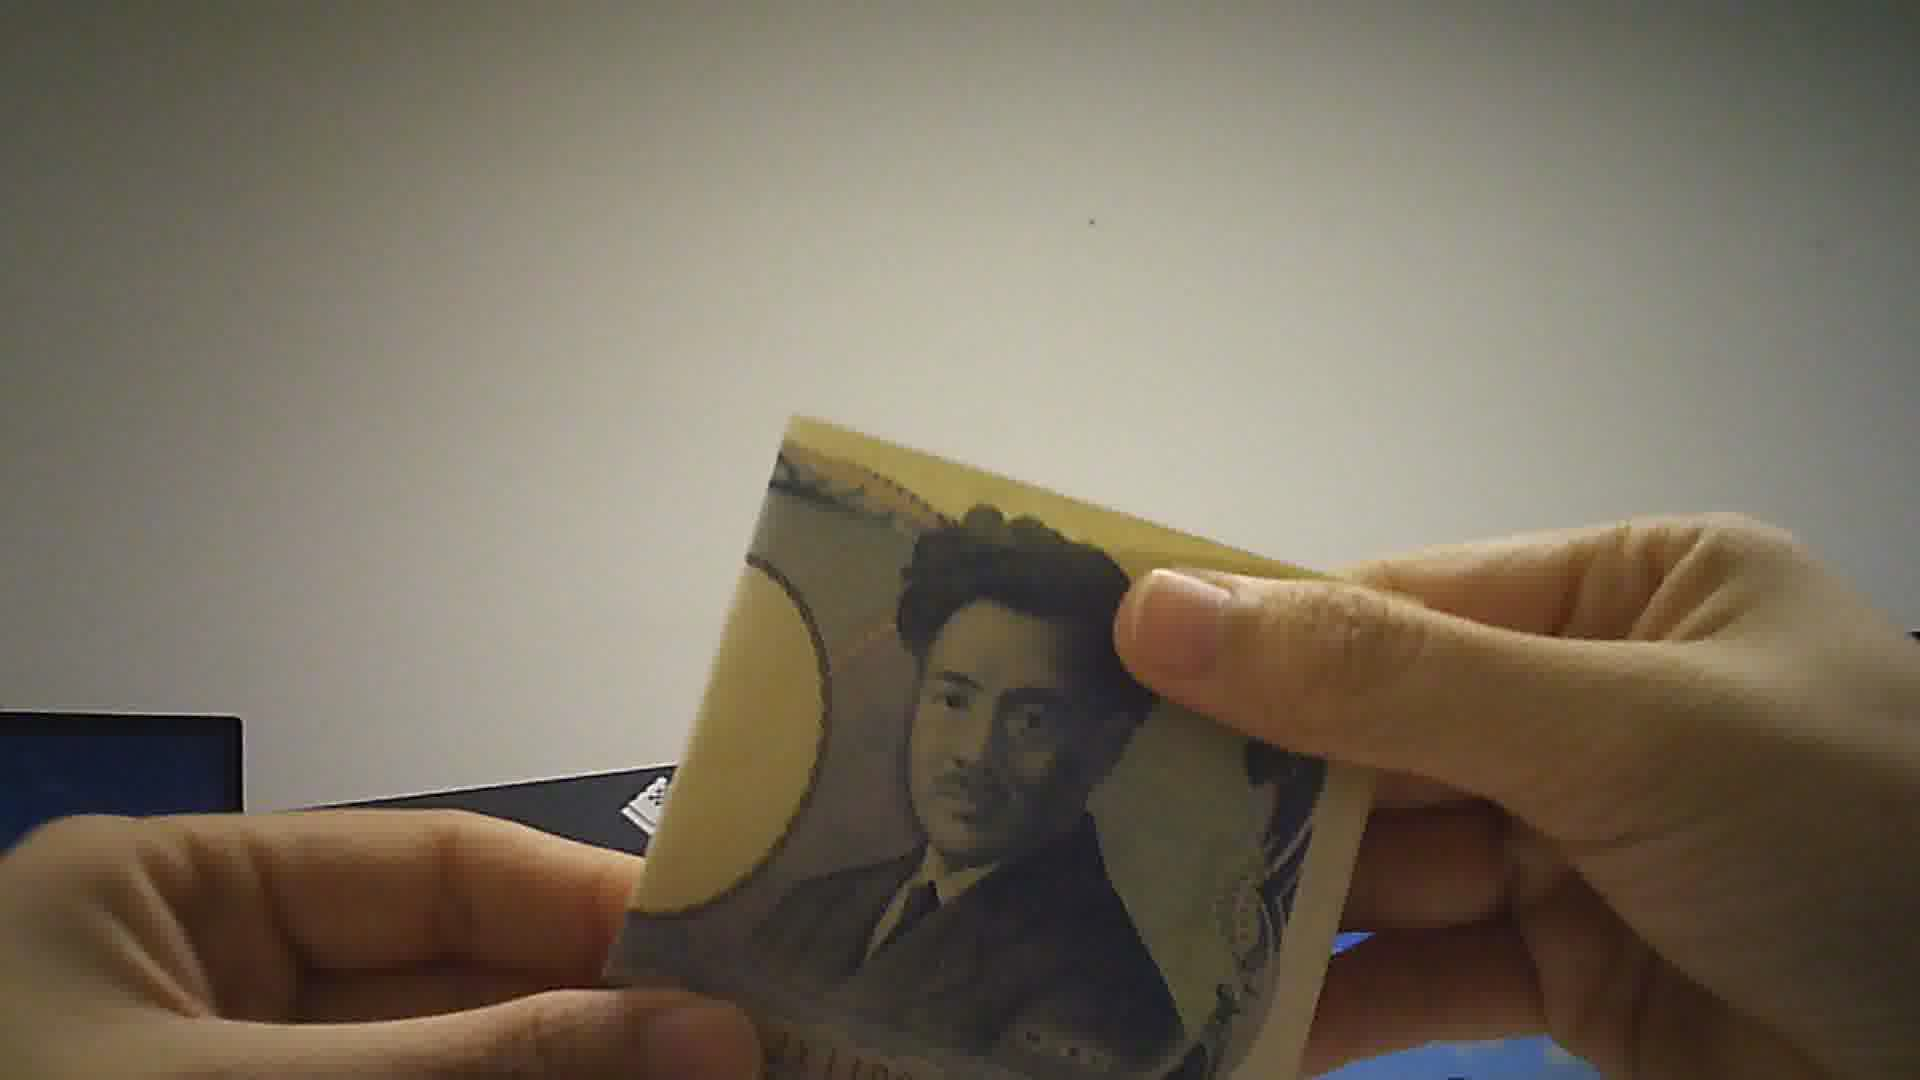1,000 Yen: (611, 415, 1400, 1079)
